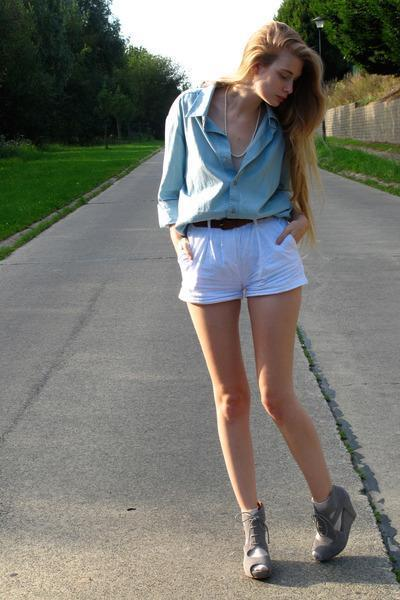shirt: (156, 73, 290, 238)
shoe: (229, 485, 355, 583)
shorts: (170, 221, 307, 323)
